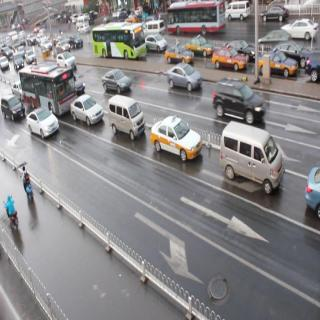BigCar: (89, 23, 151, 72), (21, 66, 71, 119), (168, 2, 228, 40)
Car: (224, 121, 282, 198), (207, 73, 265, 121), (151, 118, 201, 159), (102, 98, 142, 142), (25, 103, 57, 141), (164, 65, 200, 96), (70, 94, 106, 123), (105, 66, 132, 91), (4, 92, 24, 124), (212, 50, 245, 68), (165, 44, 193, 64)
